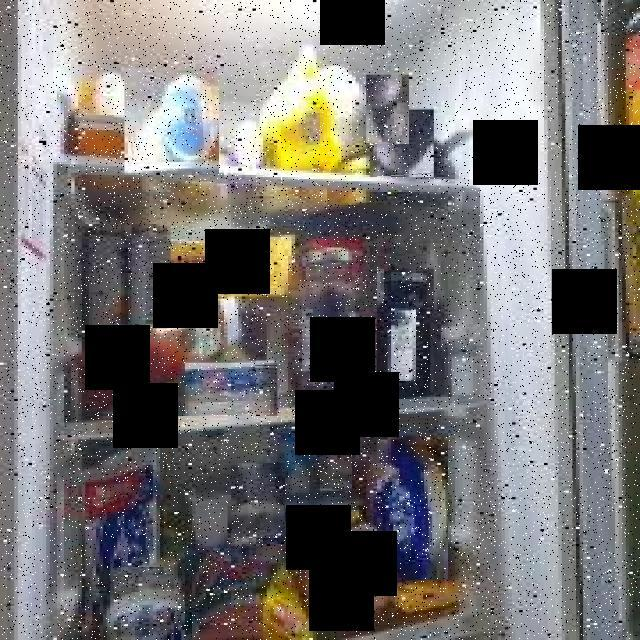avocado: (370, 110, 434, 178), (366, 76, 409, 144)
cheese: (377, 440, 448, 580), (99, 567, 185, 640), (187, 363, 279, 416), (231, 463, 285, 538)
marmelade: (377, 270, 434, 393)
mayonaise: (126, 68, 219, 175)
yogurt: (320, 418, 352, 491)
